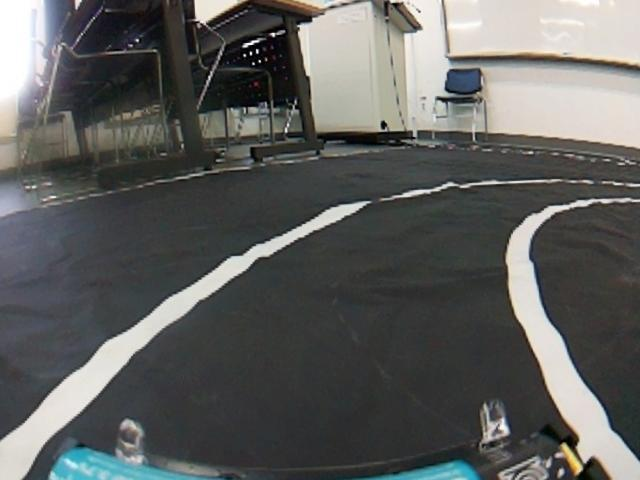right: (2, 164, 640, 480)
